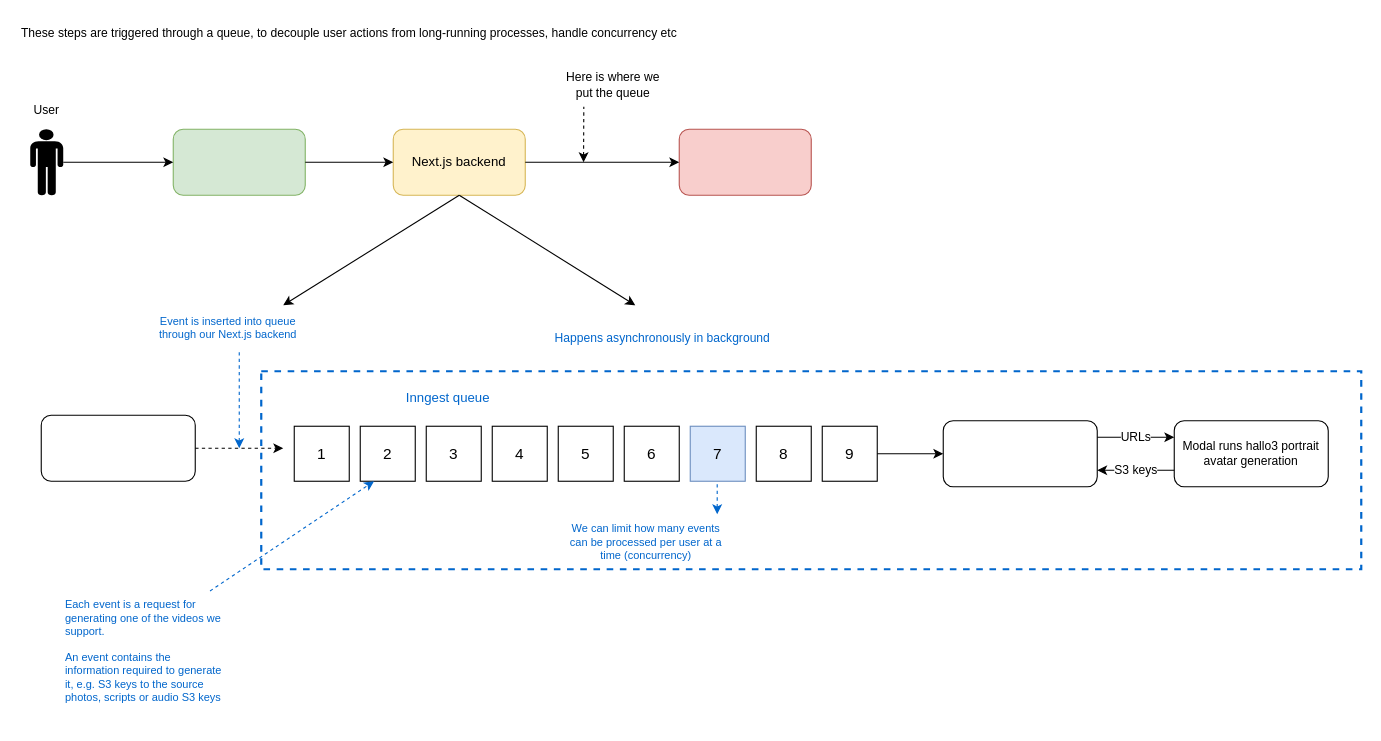
Some shapes in this 1381 by 741 pixel diagram are drawn without their labels. Here are the shapes that lost their labels. From the top down, the centre of each, then its label:
point 238,161: Client-side react app
point 744,161: Fal AI backend
point 117,447: User clicks "generate"
point 1019,453: Inngest triggers function in Next.js backend
